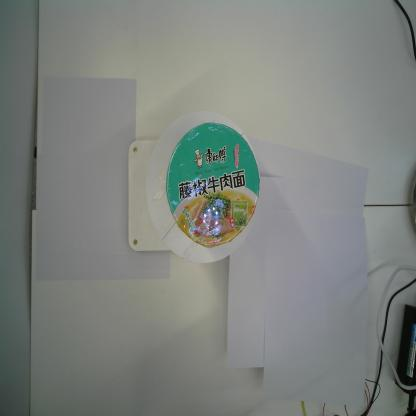Instant Noodles: (164, 120, 262, 250)
